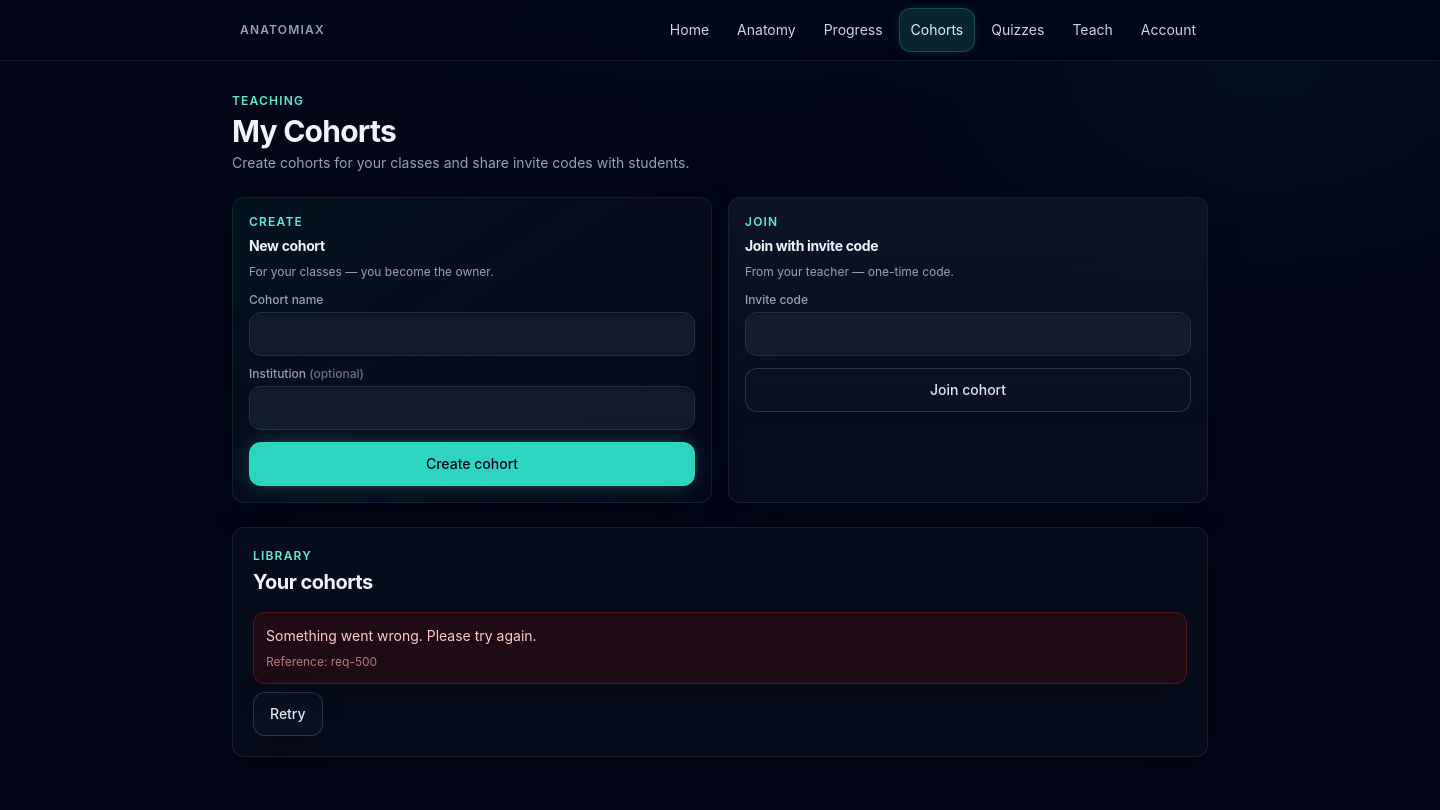
it: teacher cohorts (8.20.4) › shows loading then error with retry
The width and height of the screenshot is (1440, 810).
Expected: the message "Something went wrong. Please try again. Reference: req-500" is shown, top-left (253, 612), bottom-right (1187, 684)
Expected: the text with test id "cohorts-error-request-id" shows "req-500", top-left (331, 654), bottom-right (377, 669)
Click the button with test id "cohorts-retry": click(288, 714) top-left (253, 692), bottom-right (323, 736)
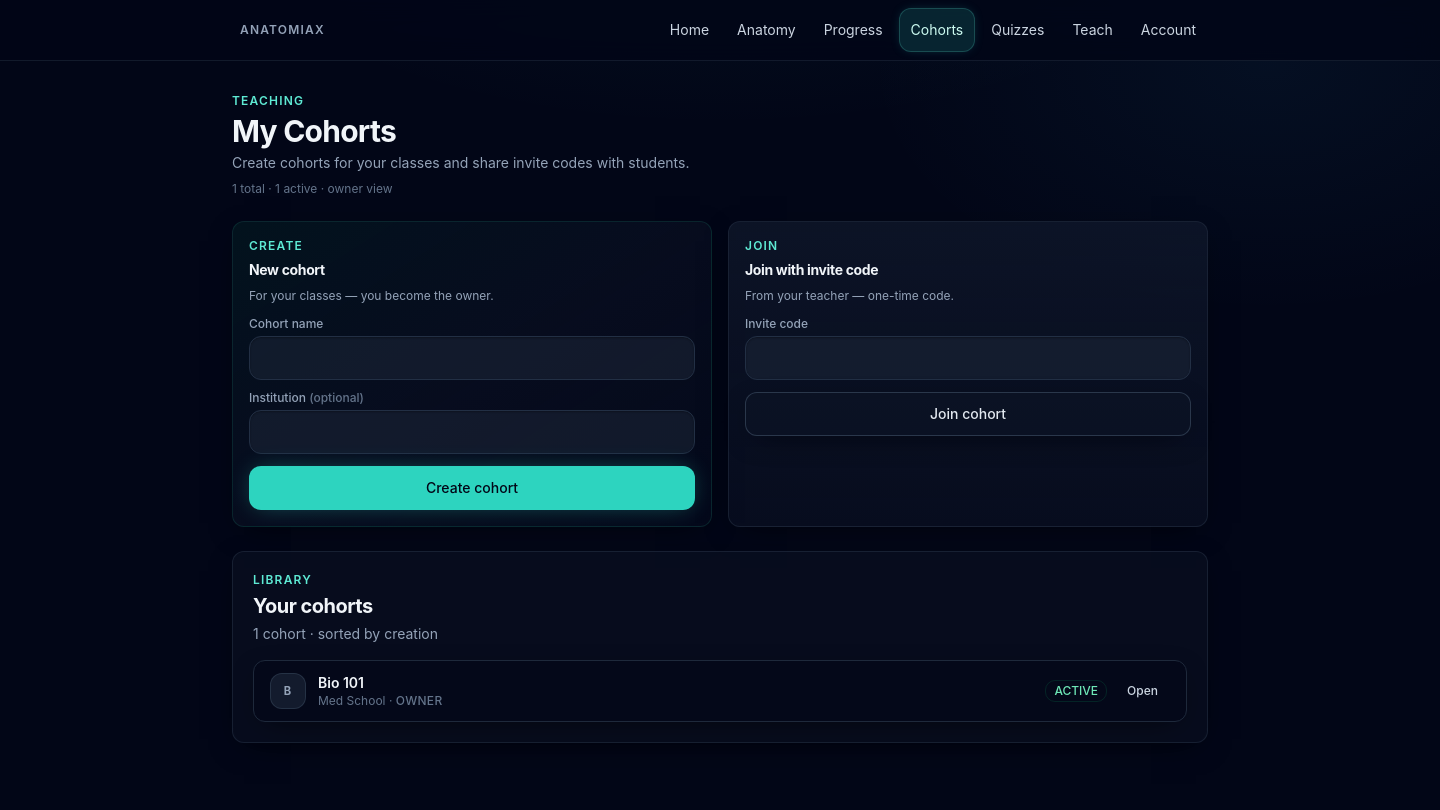
Expected: the list with test id "cohorts-list" is shown, top-left (253, 660), bottom-right (1187, 722)
